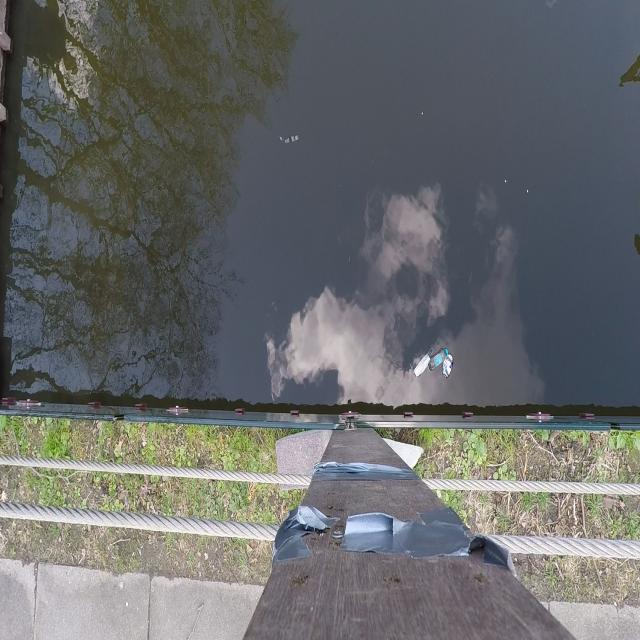Bouteille plastique: (429, 342, 448, 373)
Non plastique: (408, 348, 432, 379), (445, 354, 456, 383)
